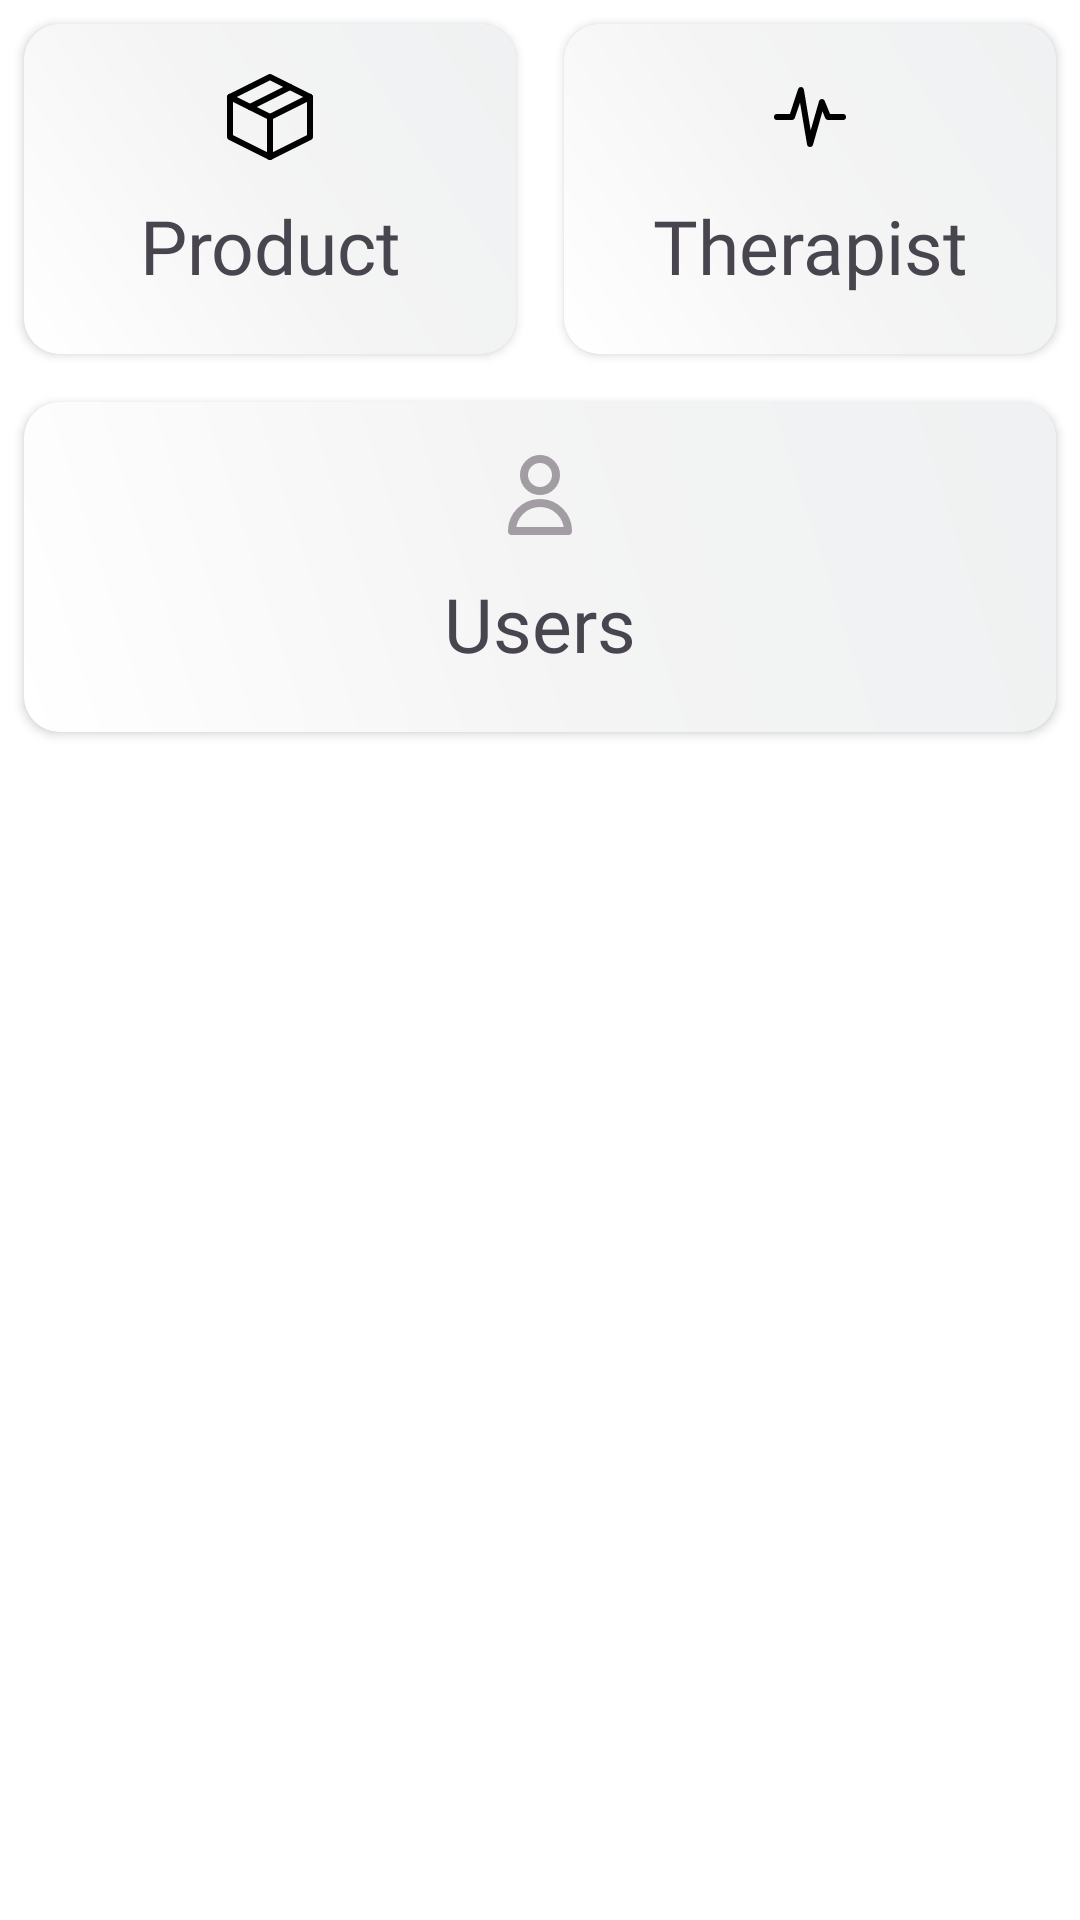

Icons on this 1080w x 1920h Android screen, each with its box as [x1, y1, x2, y2]:
usericon: [508, 455, 572, 535]
